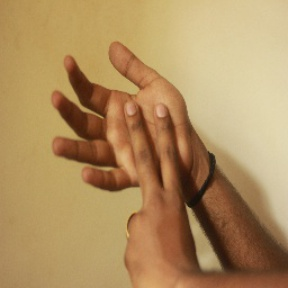N: (50, 32, 212, 269)
